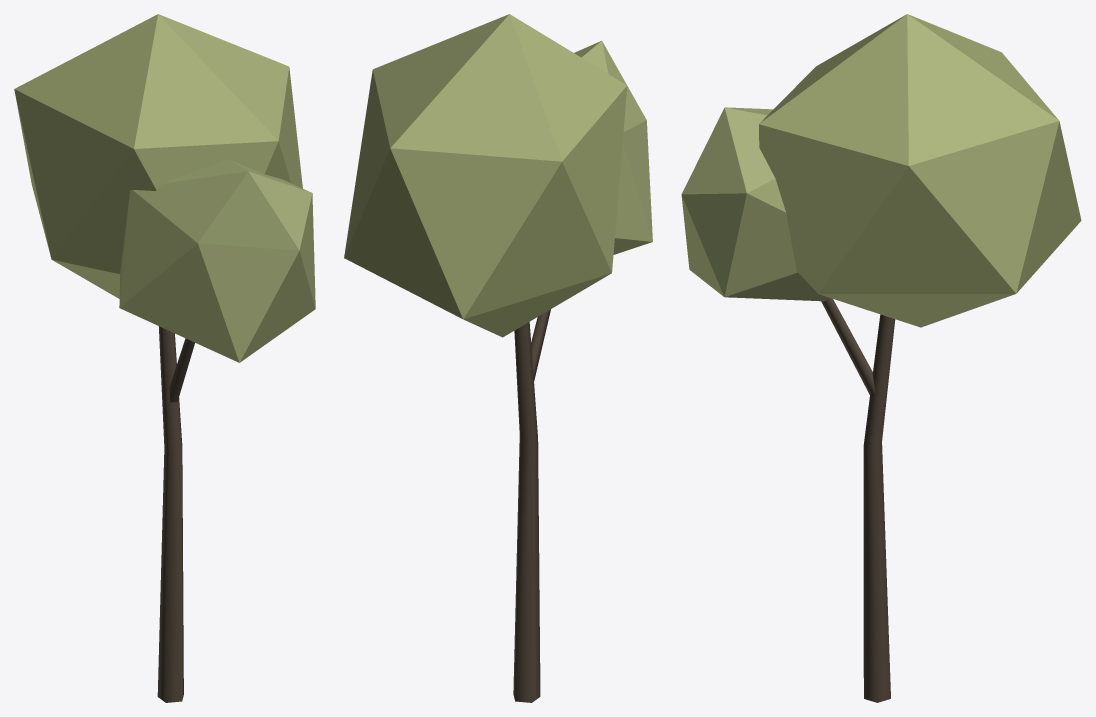
File: tree-ver5.glb
3 views of the same model, side by side, from view 1: azimuth 30°, elevation 25°; view 2: azimuth 150°, elevation 25°; view 3: azimuth 270°, elevation 25° (orthographic). The views are drawn at different scales.
Visible parts, largest first — view 1: Tree-ver5_Texture-base_0; view 2: Tree-ver5_Texture-base_0; view 3: Tree-ver5_Texture-base_0.
Part boxes in pixels (<box>): Tree-ver5_Texture-base_0: <box>14,14,315,702</box>; Tree-ver5_Texture-base_0: <box>344,14,652,702</box>; Tree-ver5_Texture-base_0: <box>681,14,1081,702</box>.
Bounding box in the file's own units: 1.87 × 5.12 × 2.71.
1 material, 1 textured.
